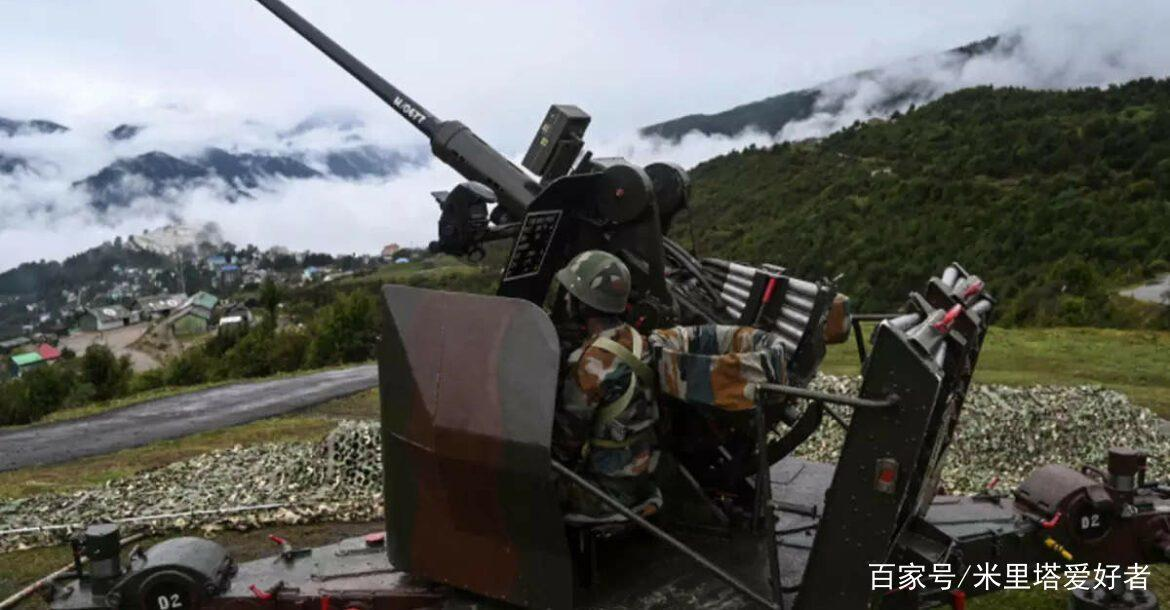MIL_SPG: (53, 2, 1170, 608)
